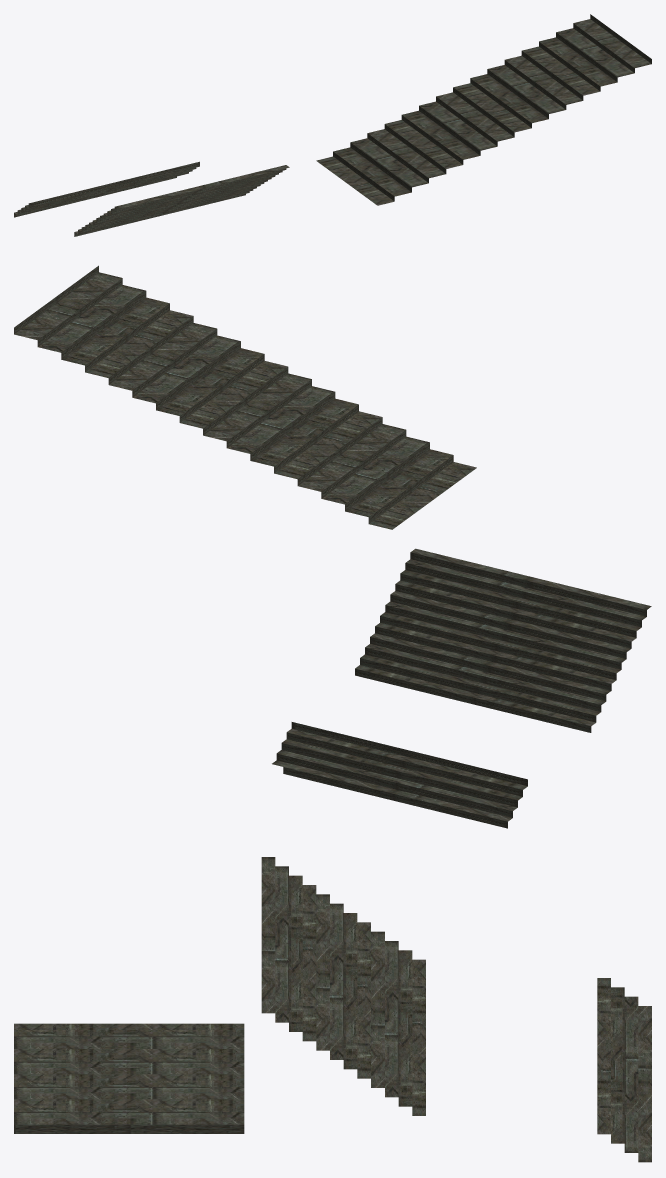
Rendered from CH09_SMAUG_PLAYSURFACE_LAIR90.fbx.
The picture shows the model from 3 angles, top to bottom: view 1: azimuth 30°, elevation 25°; view 2: azimuth 150°, elevation 25°; view 3: azimuth 270°, elevation 25°; orthographic projection. The views are drawn at different scales.
Parts seen in each view (by area): view 1: CH09_SMAUG_PLAYSURFACE_LAIR90; view 2: CH09_SMAUG_PLAYSURFACE_LAIR90; view 3: CH09_SMAUG_PLAYSURFACE_LAIR90.
Boxes of the visible parts, x1,y1,x2,y2 form: CH09_SMAUG_PLAYSURFACE_LAIR90: [14, 14, 651, 236]; CH09_SMAUG_PLAYSURFACE_LAIR90: [14, 265, 651, 828]; CH09_SMAUG_PLAYSURFACE_LAIR90: [14, 857, 651, 1162].
Size of the model in its own units: 294312 by 102000 by 186285.
Materials: 1 (1 with a texture image).
